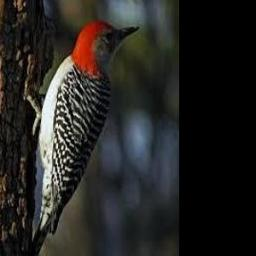Woodpecker: (28, 19, 139, 256)
